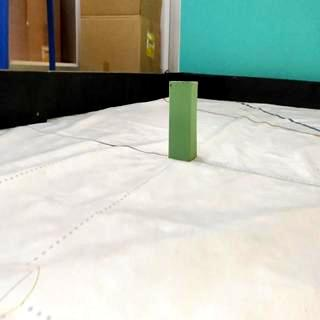greenbox: (168, 80, 199, 164)
